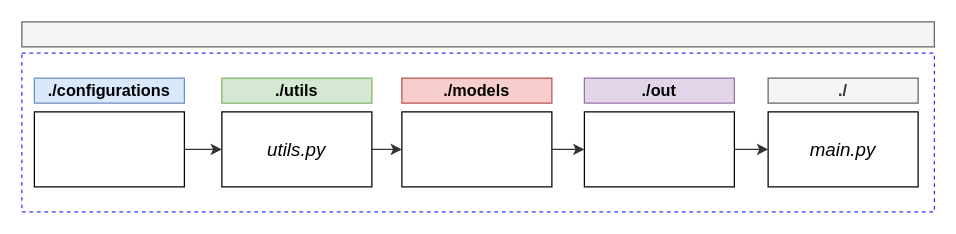
This 956x234 diagram has some shape labels left out. The shapes that lost their labels are listed below. From the top down, each one's centre as x and y in pixels, then its label:
At pixel 477 34: "./financial-control".
At pixel 108 149: "configurations.py".
At pixel 476 149: "transaction.py".
At pixel 658 149: "transactions.txt".
